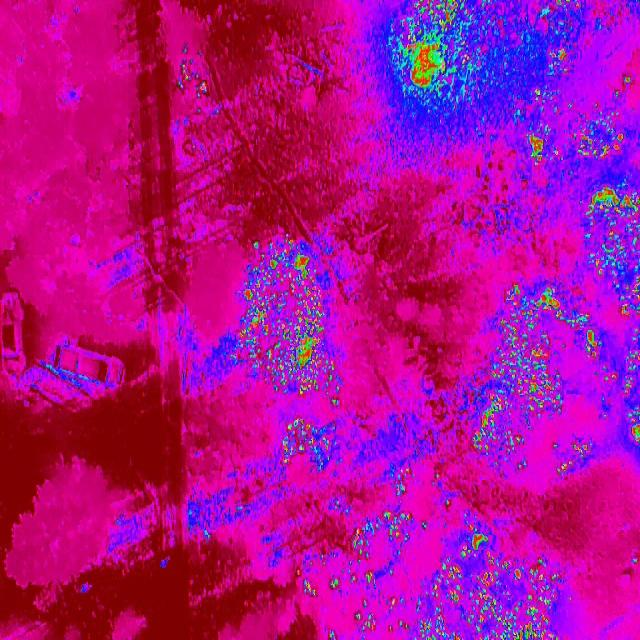fire: (478, 283, 568, 472), (236, 236, 341, 397), (414, 531, 569, 640), (381, 0, 521, 106), (579, 183, 640, 322), (344, 514, 414, 584), (280, 417, 344, 472), (572, 100, 626, 161), (541, 14, 578, 84), (620, 322, 640, 443), (558, 435, 596, 481), (523, 126, 559, 166), (568, 312, 598, 358)
